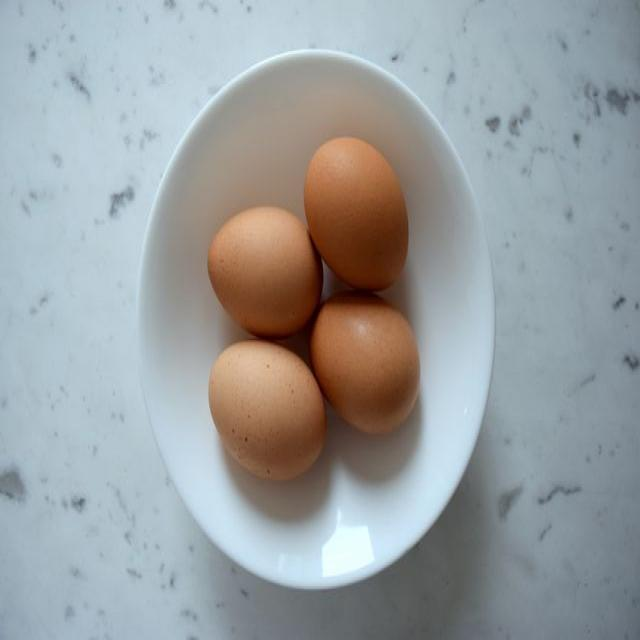Dish: (171, 48, 494, 584)
